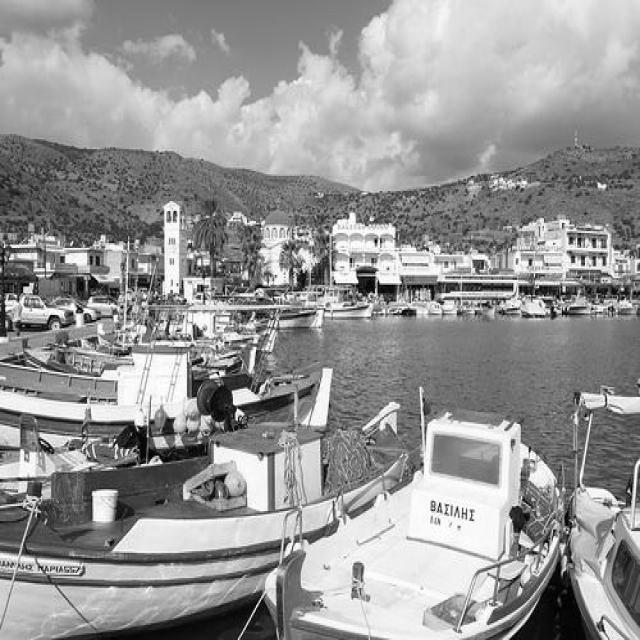vehicle: (20, 293, 74, 331), (50, 297, 102, 323), (85, 295, 117, 319), (0, 292, 18, 311), (173, 293, 187, 305)
